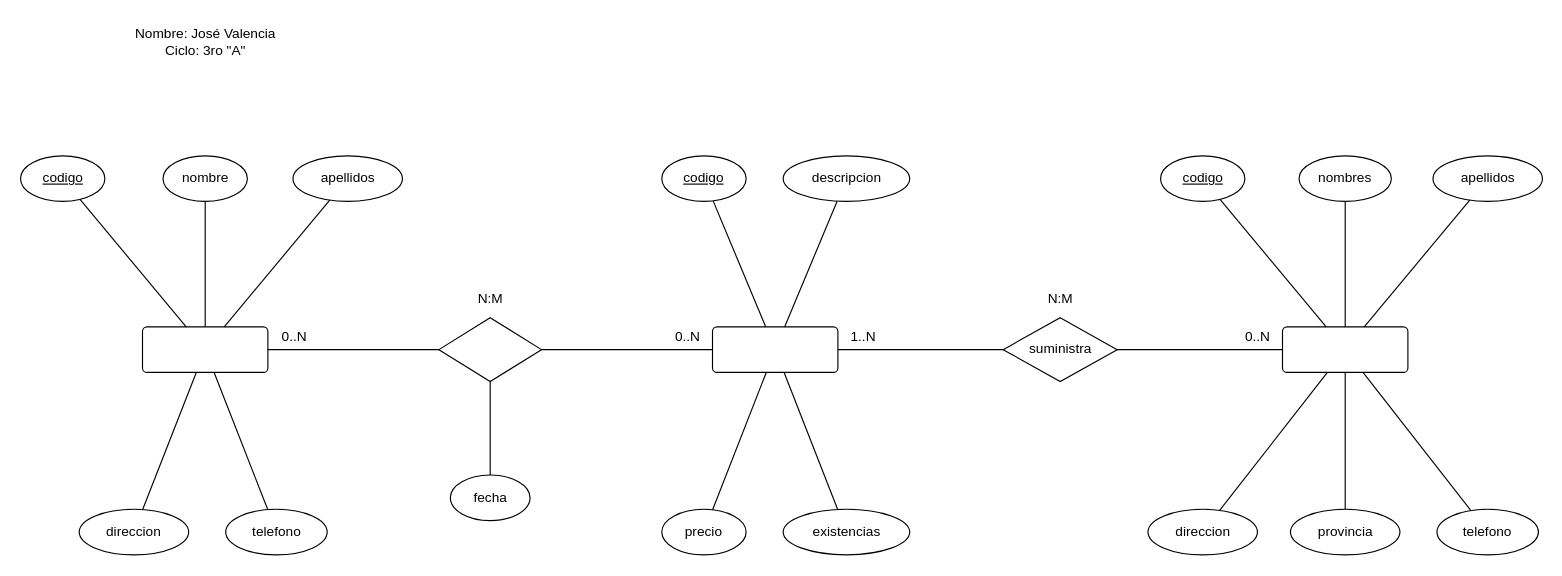
Image size: 1562x576. Some labels were removed from this diagram. The box of each missing label's shape, as (x1, y1, x2, y2) in pixels:
Cliente: (141, 326, 268, 372)
compra: (438, 317, 542, 382)
Producto: (711, 326, 838, 372)
Proveedor: (1281, 326, 1408, 372)
